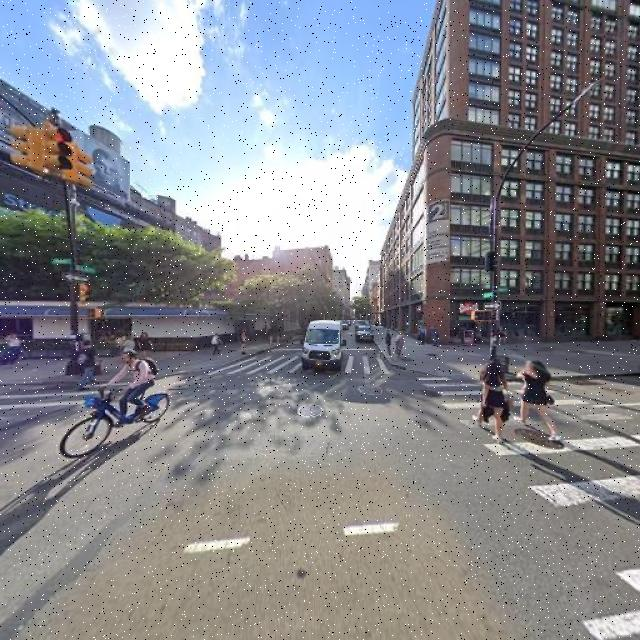Building: (383, 1, 640, 347), (1, 302, 282, 357)
